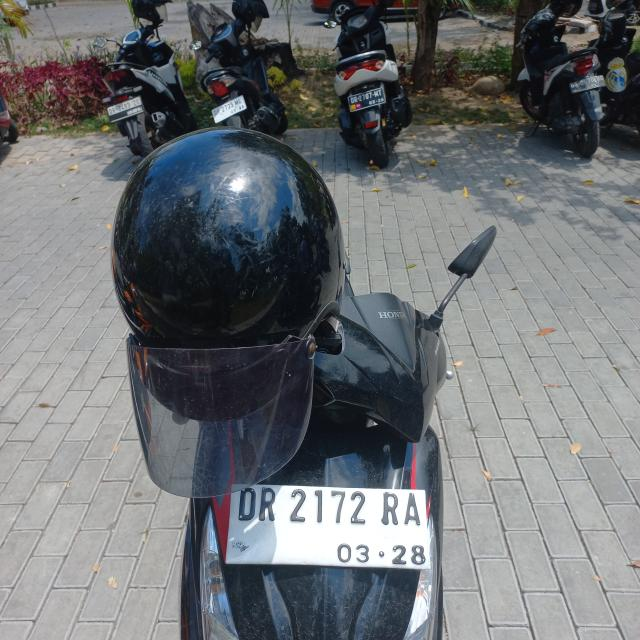plate: (227, 478, 428, 570), (211, 95, 247, 124), (348, 86, 386, 113), (107, 95, 144, 122)
